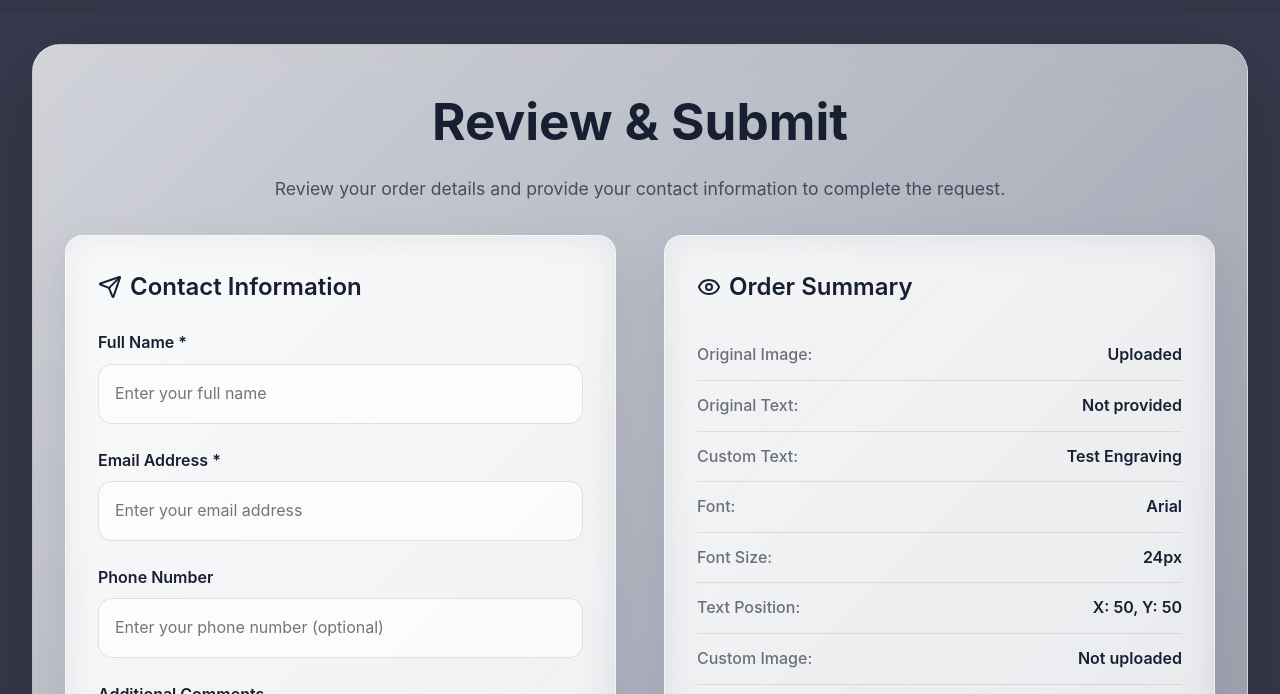
Test: Step3Submit Integration Tests › handles storage errors gracefully
The width and height of the screenshot is (1280, 694).
Note: Fill in required fields
Type "John Doe" into the field labelled "Full Name *".
click(340, 394); type("John Doe")  # box [98, 364, 583, 424]
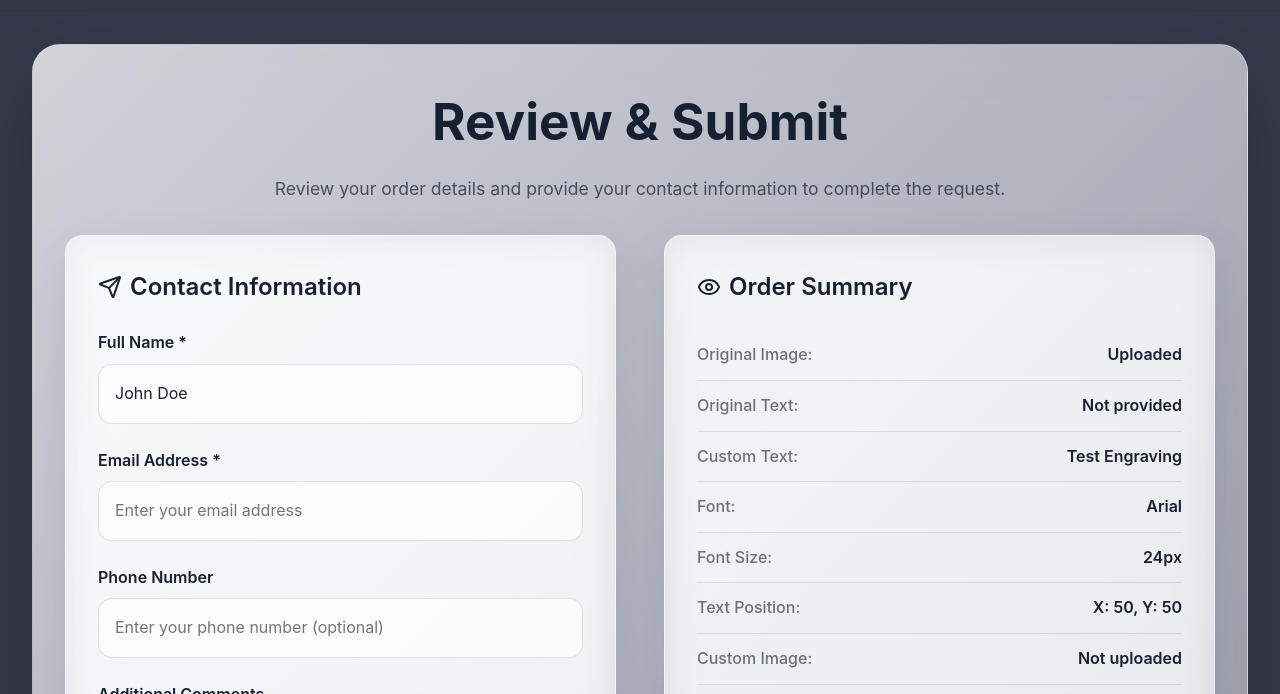
Type "john@example.com" into the field labelled "Email Address *".
click(340, 511); type("john@example.com")  # box [98, 481, 583, 541]
(page scrolled)
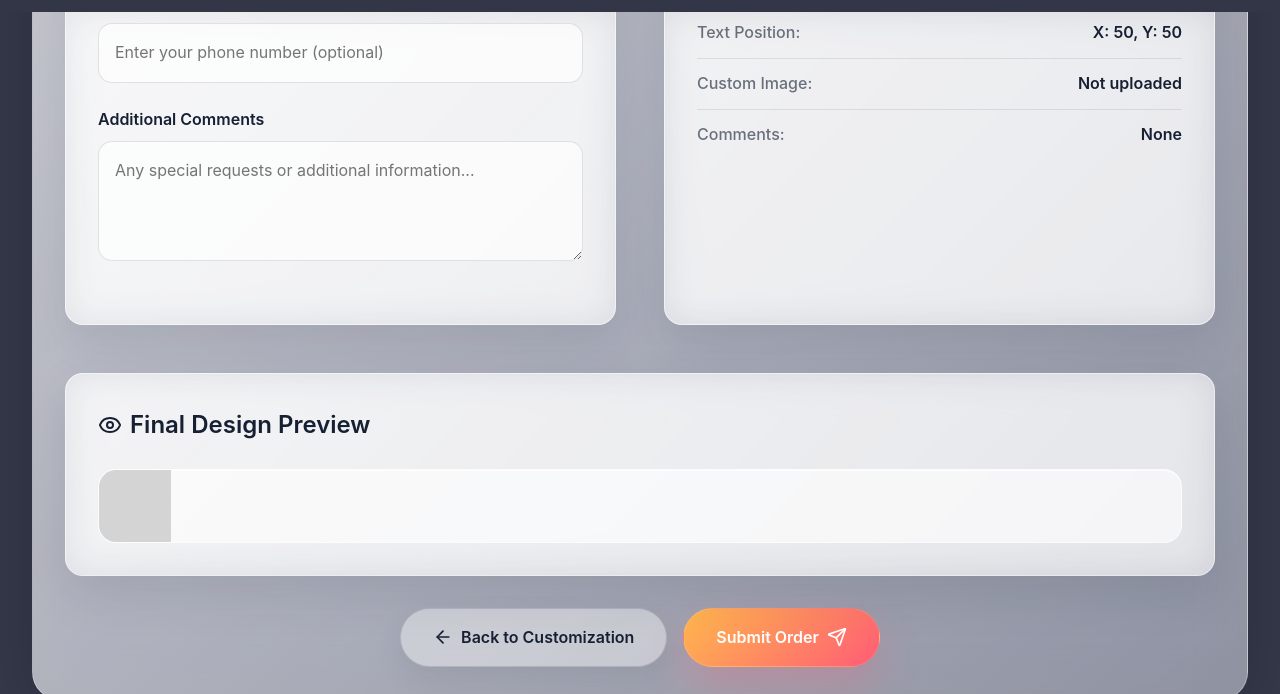
Note: Submit the form
Click the button "Submit Order".
click(782, 637)  # box [683, 608, 880, 667]
(page scrolled)
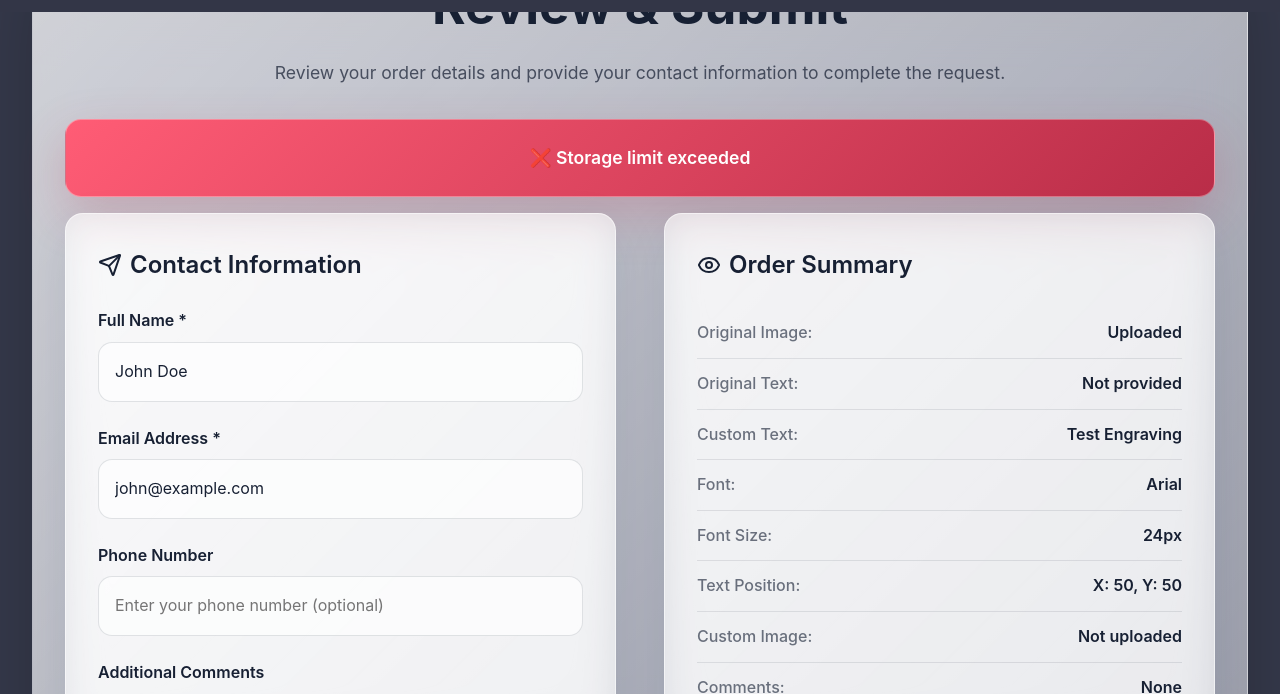
Expected: the text "❌ Storage limit exceeded" is shown, [65, 119, 1215, 197]
